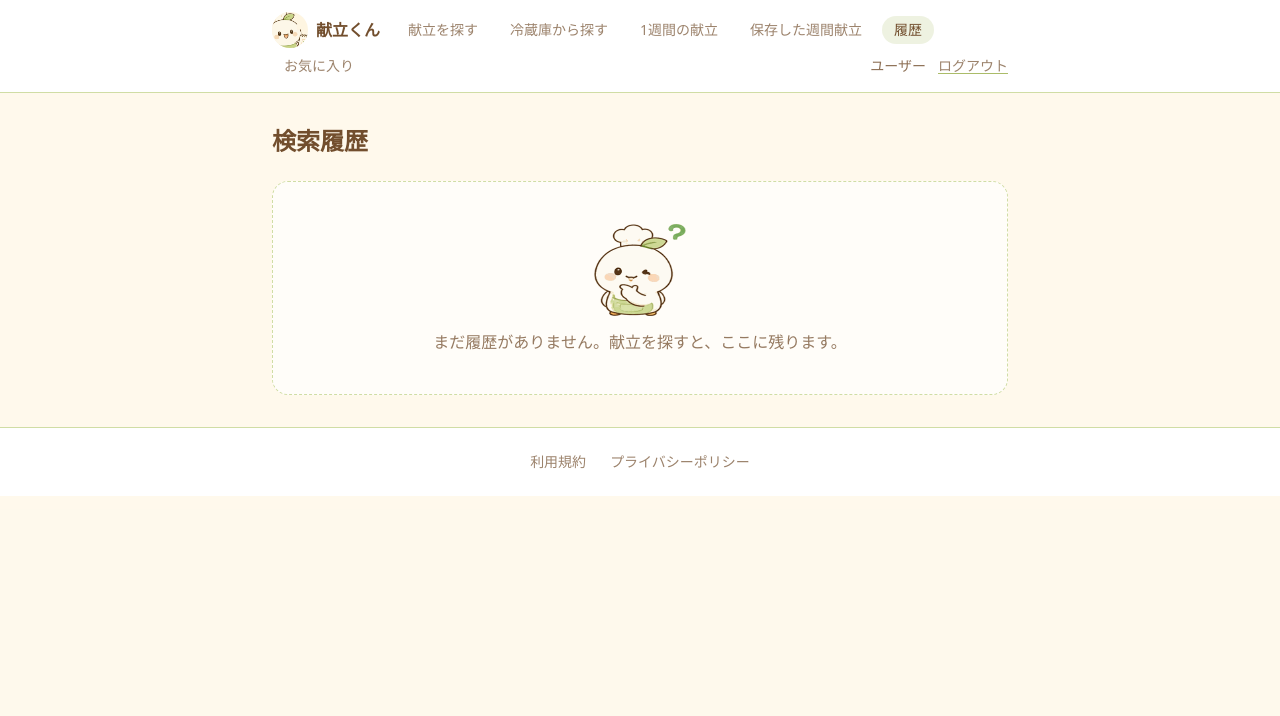
Test case: 検索と履歴のつながり › 週間献立を作っても履歴に出る
Expected: the text "まだ履歴がありません。献立を探すと、ここに残ります。" is shown, [433,330,847,354]
What coordinates should you click on to do the following:
click the link "1週間の献立"
I would click on:
 (679, 30)
Its box is [640,20,718,39].
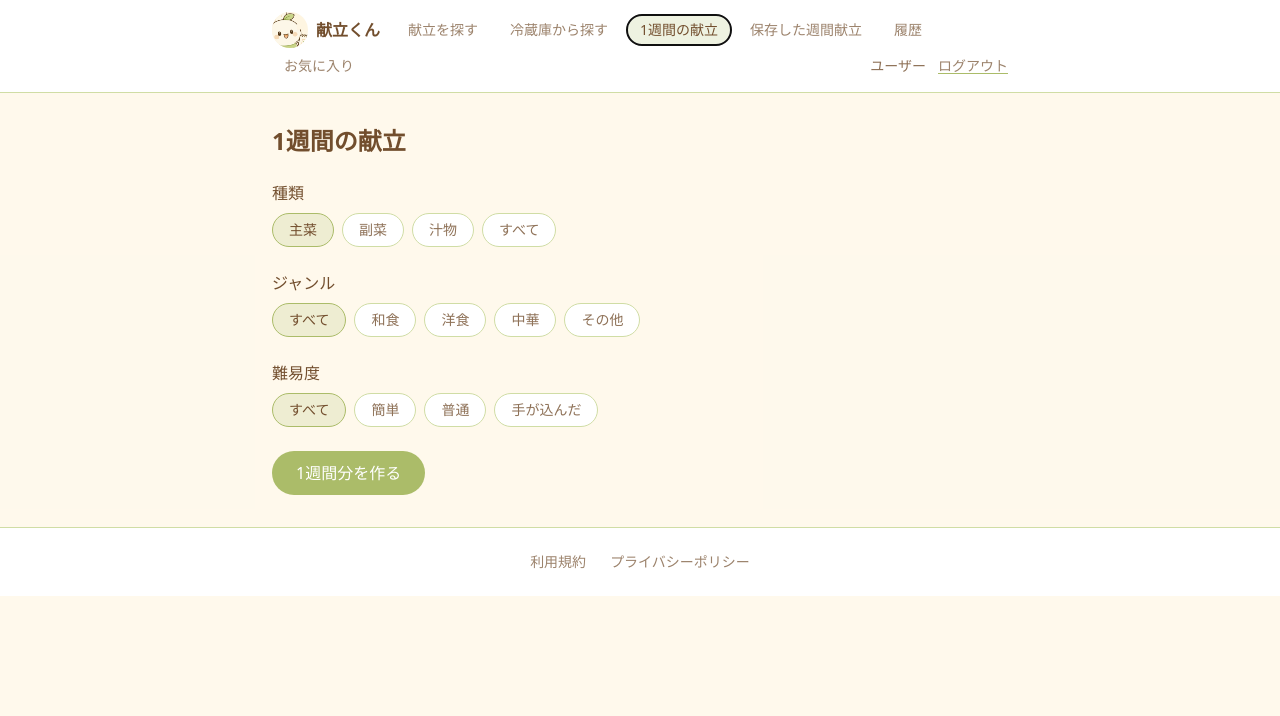
/auth/me の応答が解決するまでは生成ボタンがまだ無い。
What coordinates should you click on to do the following:
click the button "1週間分を作る"
I would click on:
 (349, 473)
Its box is [272,451,425,495].
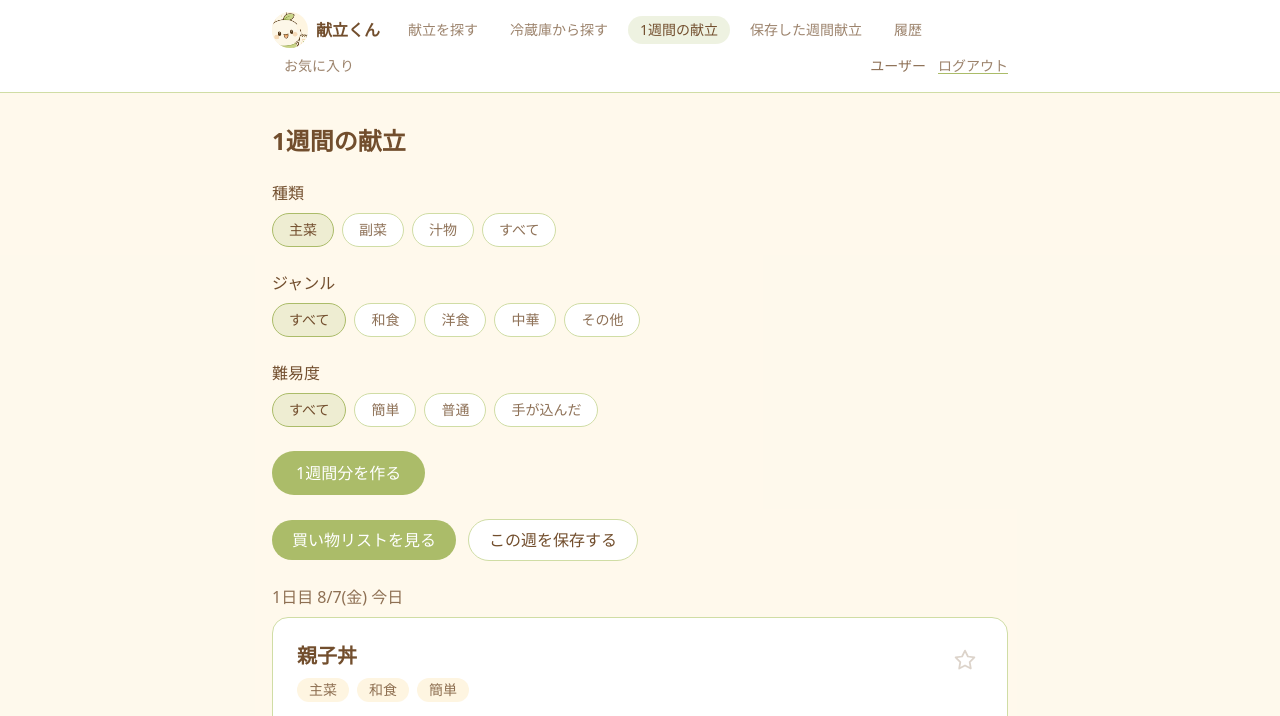
What coordinates should you click on to do the following:
click the link "履歴"
I would click on:
 (908, 30)
Its box is [894,20,922,39].
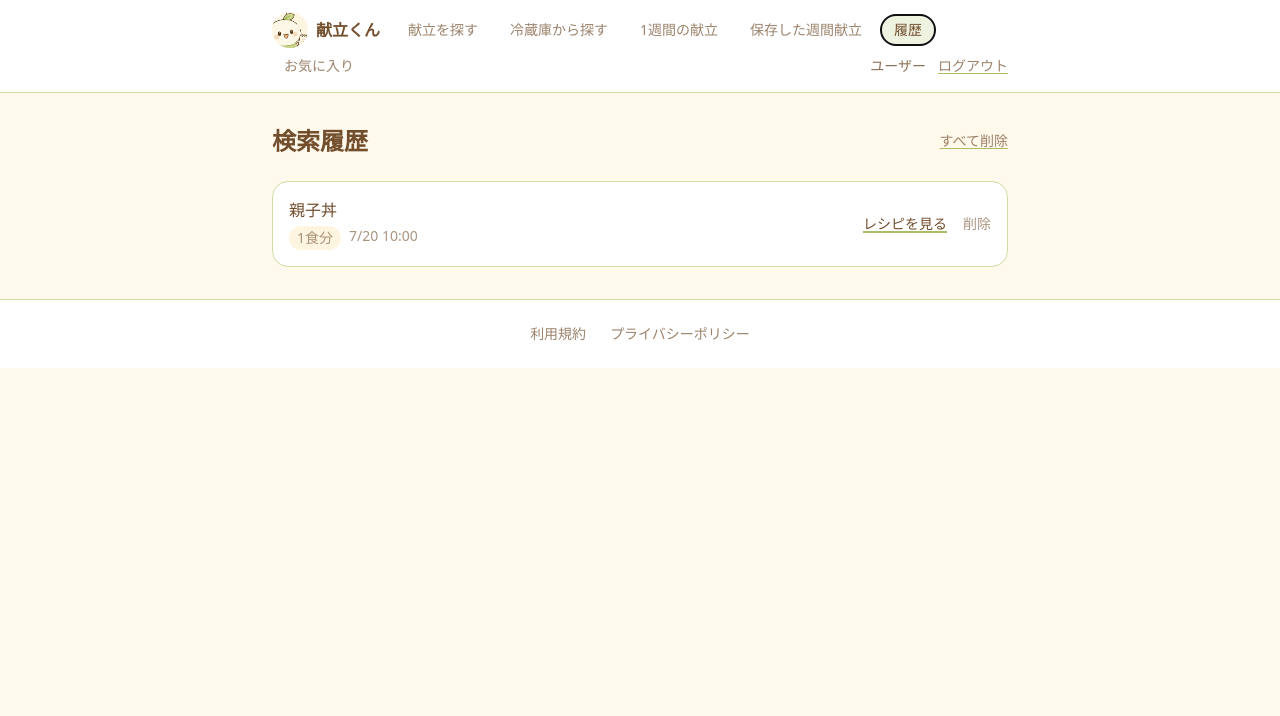
Now the list item shows "親子丼", box [289,199,337,221]
